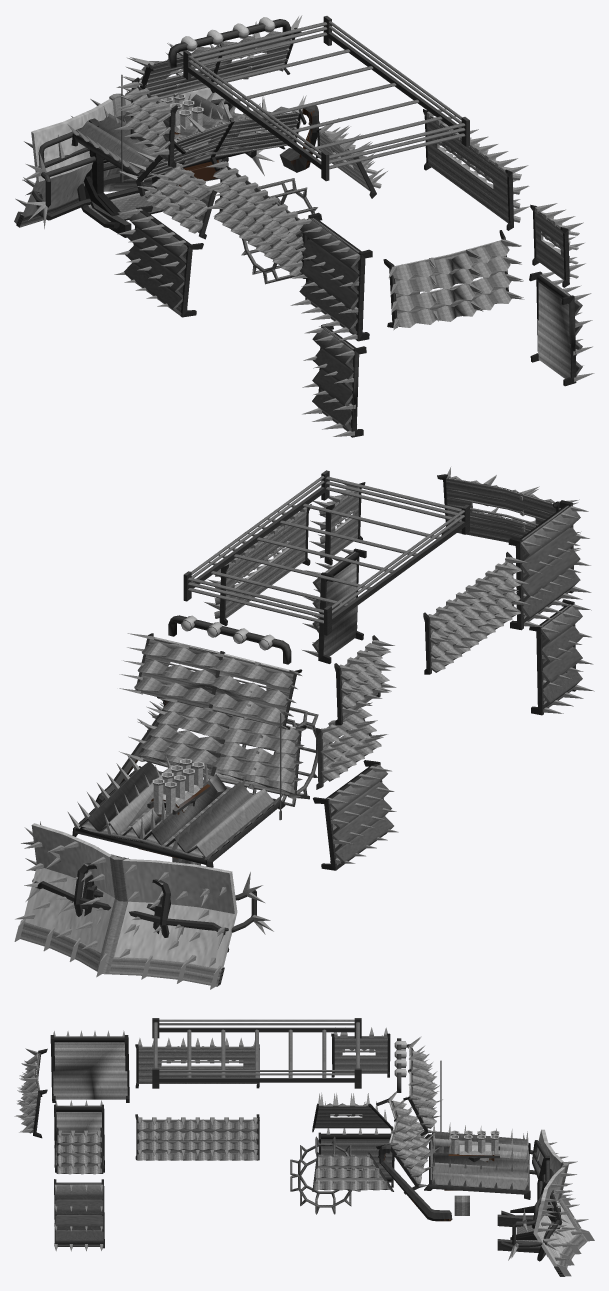
The model's file is DashRoamerArmor.fbx.
3 views of the same model, one above another, from view 1: azimuth 30°, elevation 25°; view 2: azimuth 150°, elevation 25°; view 3: azimuth 270°, elevation 25° (orthographic). The views are drawn at different scales.
Visible parts, largest first — view 1: roofrack, windowreinforcedrear, trunkreinforcedrear, plow, windowheavyrear, windowheavyfront, windowlightfront, doorfrontreinforcedleft, doorrearheavyright, windowfrontreinforcedleft, windowlightspikedrear, windowheavyspikedfront (+22 smaller); view 2: plow, windowreinforcedfront, roofrack, windowheavyrear, plow_spiked, hoodreinforcedfront, trunkreinforcedrear, hoodreinforcedfrontscoop, windowreinforcedrear, windowheavyfront, doorfrontreinforcedleft, windowfrontreinforcedleft (+22 smaller); view 3: roofrack, trunkheavyrear, windowheavyrear, windowreinforcedrear, hoodreinforcedfront, plow, windowfrontheavyleft, doorrearreinforcedright, windowreinforcedfront, hoodreinforcedfrontscoop, windowfrontreinforcedright, windowrearreinforcedright (+23 smaller).
Boxes of the visible parts, left/top/right/bottom form: roofrack: left=183, top=16, right=469, bottom=181; windowreinforcedrear: left=213, top=116, right=521, bottom=327; trunkreinforcedrear: left=299, top=217, right=362, bottom=431; plow: left=14, top=83, right=234, bottom=227; windowheavyrear: left=219, top=109, right=513, bottom=327; windowheavyfront: left=135, top=27, right=306, bottom=196; windowlightfront: left=144, top=32, right=298, bottom=180; doorfrontreinforcedleft: left=124, top=209, right=190, bottom=315; doorrearheavyright: left=529, top=271, right=576, bottom=386; windowfrontreinforcedleft: left=124, top=86, right=212, bottom=233; windowlightspikedrear: left=203, top=109, right=529, bottom=330; windowheavyspikedfront: left=119, top=15, right=306, bottom=195; plow: left=14, top=823, right=237, bottom=989; windowreinforcedfront: left=134, top=642, right=299, bottom=794; roofrack: left=183, top=470, right=469, bottom=635; windowheavyrear: left=219, top=474, right=559, bottom=674; plow_spiked: left=15, top=826, right=234, bottom=967; hoodreinforcedfront: left=76, top=761, right=278, bottom=860; trunkreinforcedrear: left=520, top=505, right=582, bottom=709; hoodreinforcedfrontscoop: left=75, top=761, right=273, bottom=864; windowreinforcedrear: left=214, top=476, right=555, bottom=672; windowheavyfront: left=135, top=633, right=309, bottom=799; doorfrontreinforcedleft: left=326, top=763, right=393, bottom=869; windowfrontreinforcedleft: left=320, top=646, right=390, bottom=781; roofrack: left=152, top=1018, right=361, bottom=1088; trunkheavyrear: left=50, top=1035, right=129, bottom=1172; windowheavyrear: left=33, top=1044, right=259, bottom=1160; windowreinforcedrear: left=19, top=1046, right=258, bottom=1160; hoodreinforcedfront: left=429, top=1131, right=529, bottom=1190; plow: left=512, top=1129, right=594, bottom=1276; windowfrontheavyleft: left=312, top=1033, right=393, bottom=1132; doorrearreinforcedright: left=55, top=1182, right=103, bottom=1244; windowreinforcedfront: left=392, top=1051, right=437, bottom=1185; hoodreinforcedfrontscoop: left=429, top=1132, right=529, bottom=1189; windowfrontreinforcedright: left=314, top=1155, right=387, bottom=1190; windowrearreinforcedright: left=57, top=1133, right=101, bottom=1174.
Bounding box in the file's own units: 290 × 284 × 756.
